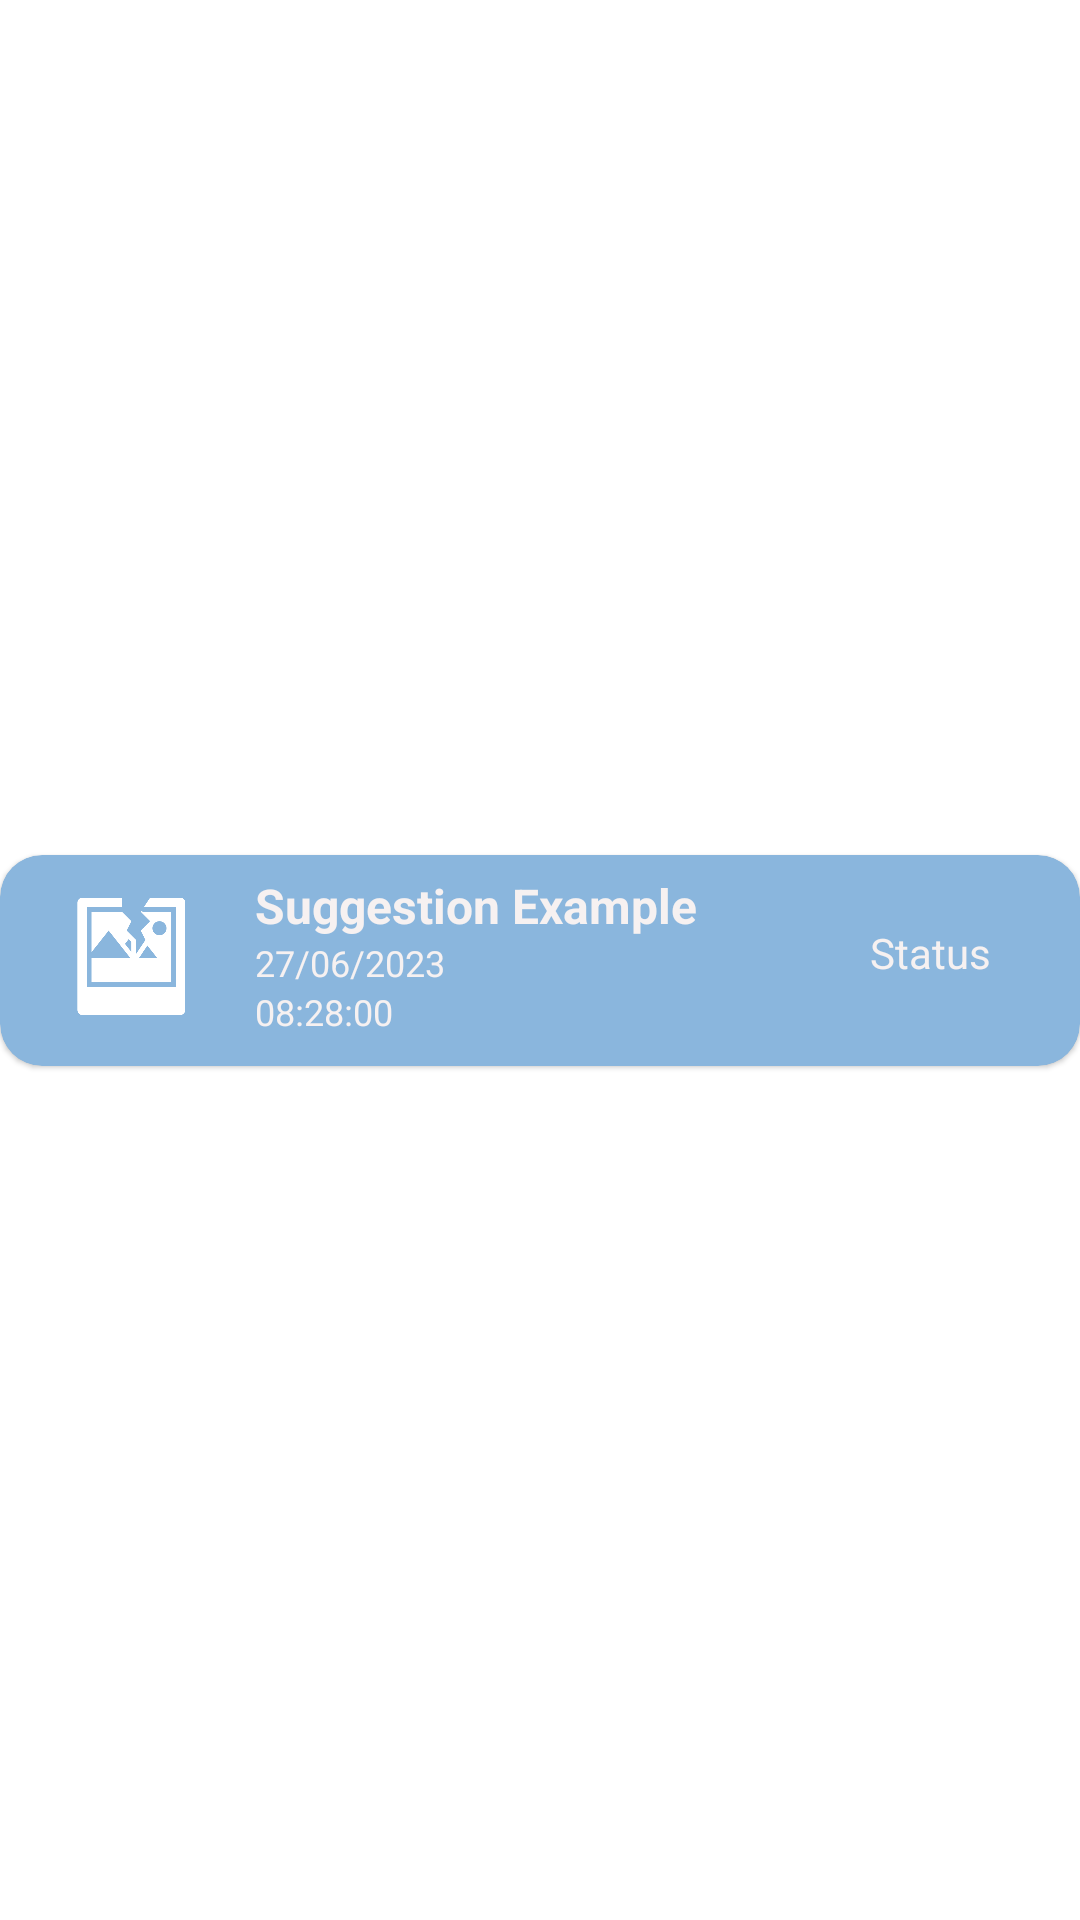

Point at icon controls on the screen. Image size 1080 × 1920, points as (x=x, y=y).
list photo: (x=131, y=956)
